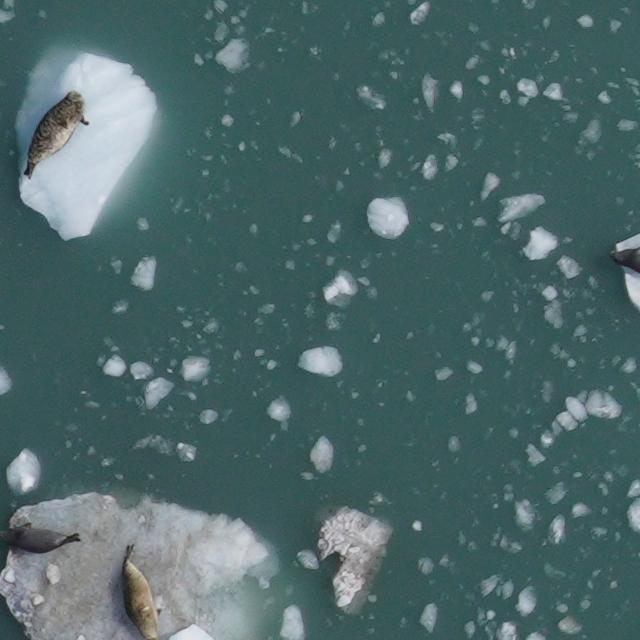seal: (19, 85, 95, 183), (116, 540, 166, 640), (0, 518, 87, 558)
